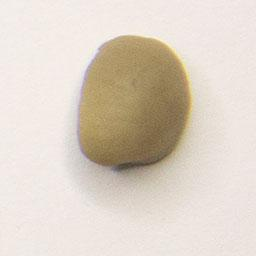premium: (72, 30, 196, 177)
